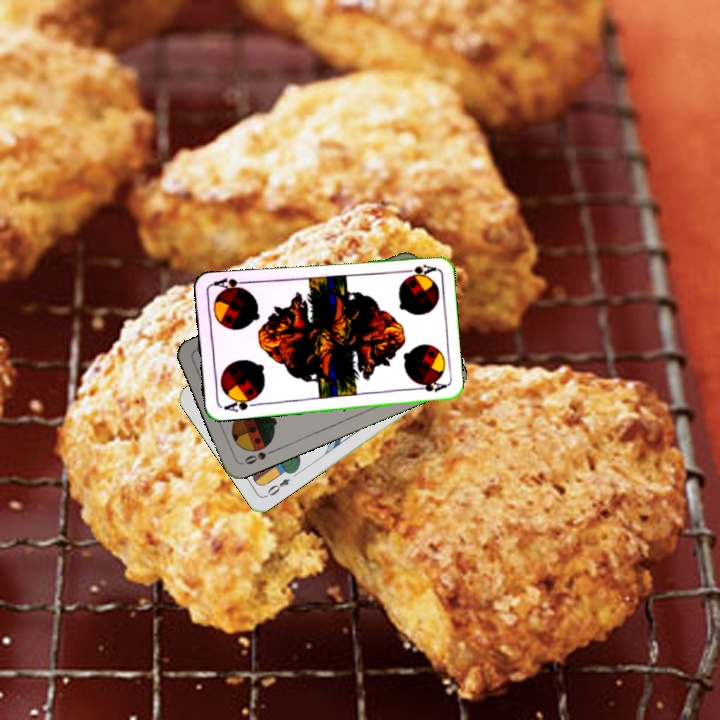EO: (261, 474, 293, 500)
SA: (220, 393, 259, 415), (397, 260, 438, 280)
SO: (240, 446, 277, 467)
